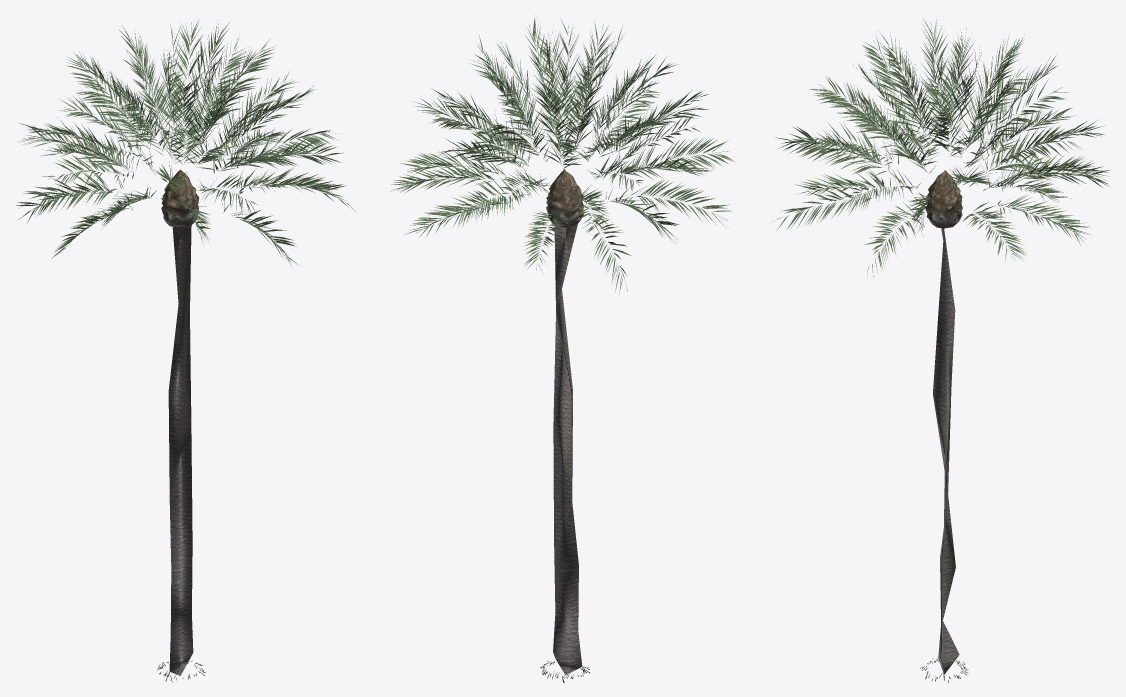
The model's file is dxb-date.glb.
The picture shows the model from 3 angles, left to right: view 1: azimuth 30°, elevation 25°; view 2: azimuth 150°, elevation 25°; view 3: azimuth 270°, elevation 25°; orthographic projection.
Visible parts, largest first — view 1: Phoenix_dactylifera_HD; view 2: Phoenix_dactylifera_HD; view 3: Phoenix_dactylifera_HD.
Boxes of the visible parts, left/top/right/bottom form: Phoenix_dactylifera_HD: left=16, top=19, right=355, bottom=682; Phoenix_dactylifera_HD: left=390, top=15, right=735, bottom=682; Phoenix_dactylifera_HD: left=771, top=18, right=1109, bottom=682.
Bounding box in the file's own units: 6.8 × 13.82 × 6.8.
7 materials, 7 textured.
